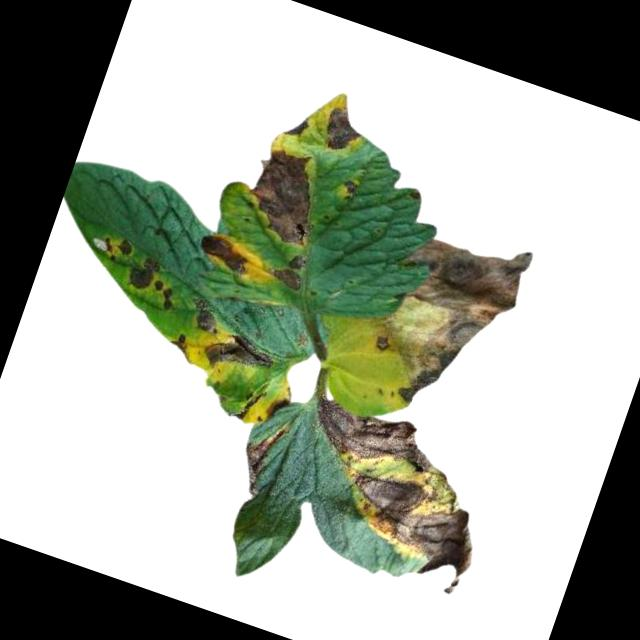Early_blight: (355, 209, 535, 429), (310, 456, 490, 597), (303, 391, 461, 491), (234, 140, 335, 253), (201, 322, 280, 386), (232, 416, 289, 501), (190, 225, 261, 281), (317, 104, 366, 161), (267, 246, 311, 292), (122, 254, 159, 293), (98, 231, 136, 267), (184, 299, 220, 333), (164, 326, 198, 360), (281, 110, 312, 143), (145, 279, 178, 310), (262, 391, 290, 421), (336, 177, 358, 206)
